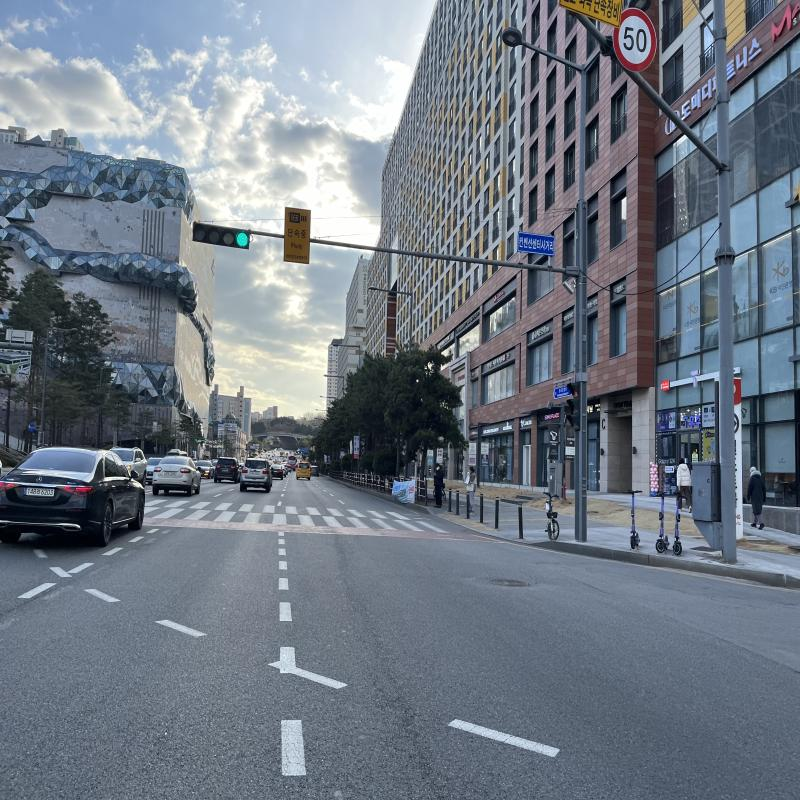green: (235, 231, 249, 248)
